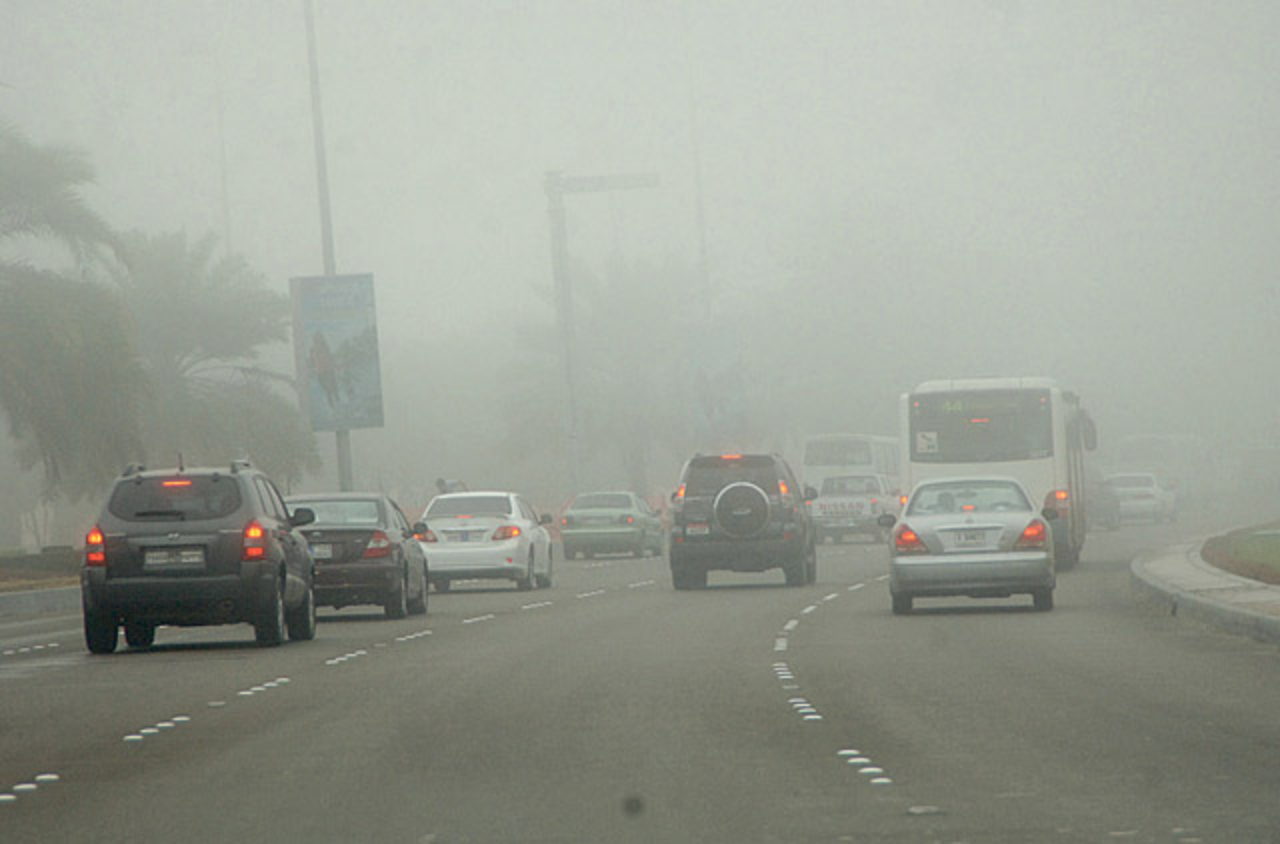bus: (901, 380, 1097, 568), (803, 436, 899, 498)
car: (73, 463, 319, 656), (884, 478, 1055, 614), (665, 449, 823, 589), (288, 491, 431, 620), (414, 489, 558, 590), (560, 489, 659, 560), (811, 472, 901, 544), (1116, 470, 1177, 527), (1092, 475, 1120, 527)
